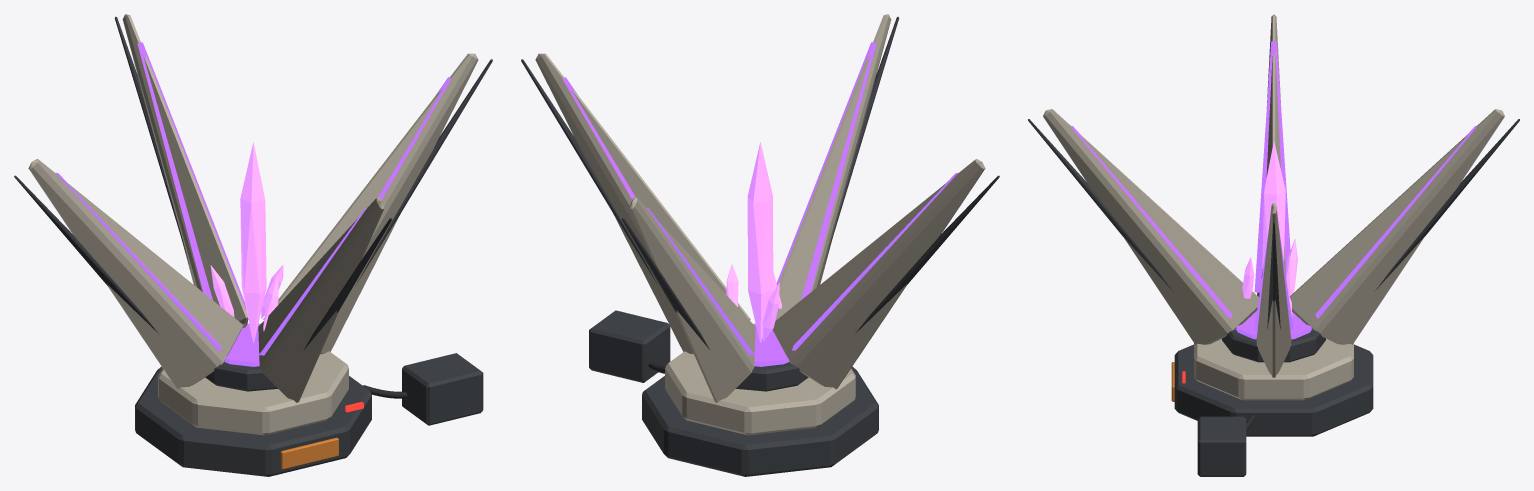
Rendered from TC_PROP_Beacon_Active_V1.glb.
3 views of the same model, side by side, from view 1: azimuth 30°, elevation 25°; view 2: azimuth 150°, elevation 25°; view 3: azimuth 270°, elevation 25° (orthographic). The views are drawn at different scales.
Visible parts, largest first — view 1: TC_Beacon_Petal_2, TC_Beacon_Plinth, TC_Beacon_Petal_3, TC_Beacon_Ring, TC_Beacon_Petal_0, TC_Beacon_Petal_1, TC_Beacon_PowerBox, TC_Beacon_Core, TC_Beacon_PetalGlow_1, TC_Beacon_Mount, TC_Beacon_PetalSpine_2, TC_Beacon_PetalSpine_0 (+8 smaller); view 2: TC_Beacon_Petal_2, TC_Beacon_Plinth, TC_Beacon_Petal_1, TC_Beacon_Ring, TC_Beacon_Petal_0, TC_Beacon_Petal_3, TC_Beacon_PowerBox, TC_Beacon_Core, TC_Beacon_PetalGlow_3, TC_Beacon_Mount, TC_Beacon_PetalSpine_2, TC_Beacon_PetalSpine_0 (+7 smaller); view 3: TC_Beacon_Petal_1, TC_Beacon_Petal_3, TC_Beacon_Plinth, TC_Beacon_Ring, TC_Beacon_Petal_0, TC_Beacon_PowerBox, TC_Beacon_PetalGlow_2, TC_Beacon_Mount, TC_Beacon_Core, TC_Beacon_Petal_2, TC_Beacon_PetalSpine_1, TC_Beacon_PetalSpine_3 (+4 smaller).
Boxes of the visible parts, box(x1,y1,x2,y2) form: TC_Beacon_Petal_2: box(28, 159, 243, 389); TC_Beacon_Plinth: box(135, 366, 371, 476); TC_Beacon_Petal_3: box(258, 197, 384, 402); TC_Beacon_Ring: box(158, 351, 348, 435); TC_Beacon_Petal_0: box(263, 53, 478, 354); TC_Beacon_Petal_1: box(122, 14, 248, 327); TC_Beacon_PowerBox: box(402, 353, 483, 425); TC_Beacon_Core: box(240, 141, 266, 342); TC_Beacon_PetalGlow_1: box(137, 42, 246, 310); TC_Beacon_Mount: box(205, 362, 277, 391); TC_Beacon_PetalSpine_2: box(14, 175, 158, 333); TC_Beacon_PetalSpine_0: box(357, 59, 492, 283); TC_Beacon_Petal_2: box(772, 159, 985, 389); TC_Beacon_Plinth: box(642, 366, 878, 476); TC_Beacon_Petal_1: box(629, 197, 755, 402); TC_Beacon_Ring: box(665, 351, 855, 435); TC_Beacon_Petal_0: box(535, 53, 750, 354); TC_Beacon_Petal_3: box(775, 14, 891, 320); TC_Beacon_PowerBox: box(589, 310, 670, 382); TC_Beacon_Core: box(747, 141, 773, 342); TC_Beacon_PetalGlow_3: box(776, 42, 876, 299); TC_Beacon_Mount: box(736, 362, 808, 391); TC_Beacon_PetalSpine_2: box(855, 175, 999, 333); TC_Beacon_PetalSpine_0: box(521, 59, 656, 283); TC_Beacon_Petal_1: box(1289, 109, 1504, 344); TC_Beacon_Petal_3: box(1043, 109, 1258, 344); TC_Beacon_Plinth: box(1174, 344, 1373, 436); TC_Beacon_Ring: box(1194, 338, 1353, 400); TC_Beacon_Petal_0: box(1256, 203, 1291, 377); TC_Beacon_PowerBox: box(1197, 416, 1246, 476); TC_Beacon_PetalGlow_2: box(1254, 41, 1290, 292); TC_Beacon_Mount: box(1222, 330, 1325, 362); TC_Beacon_Core: box(1262, 141, 1285, 272); TC_Beacon_Petal_2: box(1257, 14, 1285, 296); TC_Beacon_PetalSpine_1: box(1375, 119, 1519, 290); TC_Beacon_PetalSpine_3: box(1028, 119, 1172, 290).
Size of the model in its own units: 2.84 by 1.82 by 2.84.
